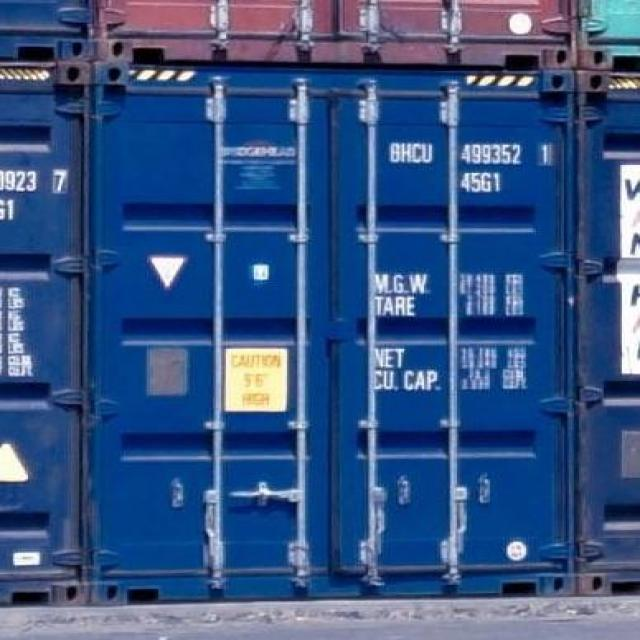ISO: (461, 170, 504, 194)
container_number: (390, 142, 556, 167)
